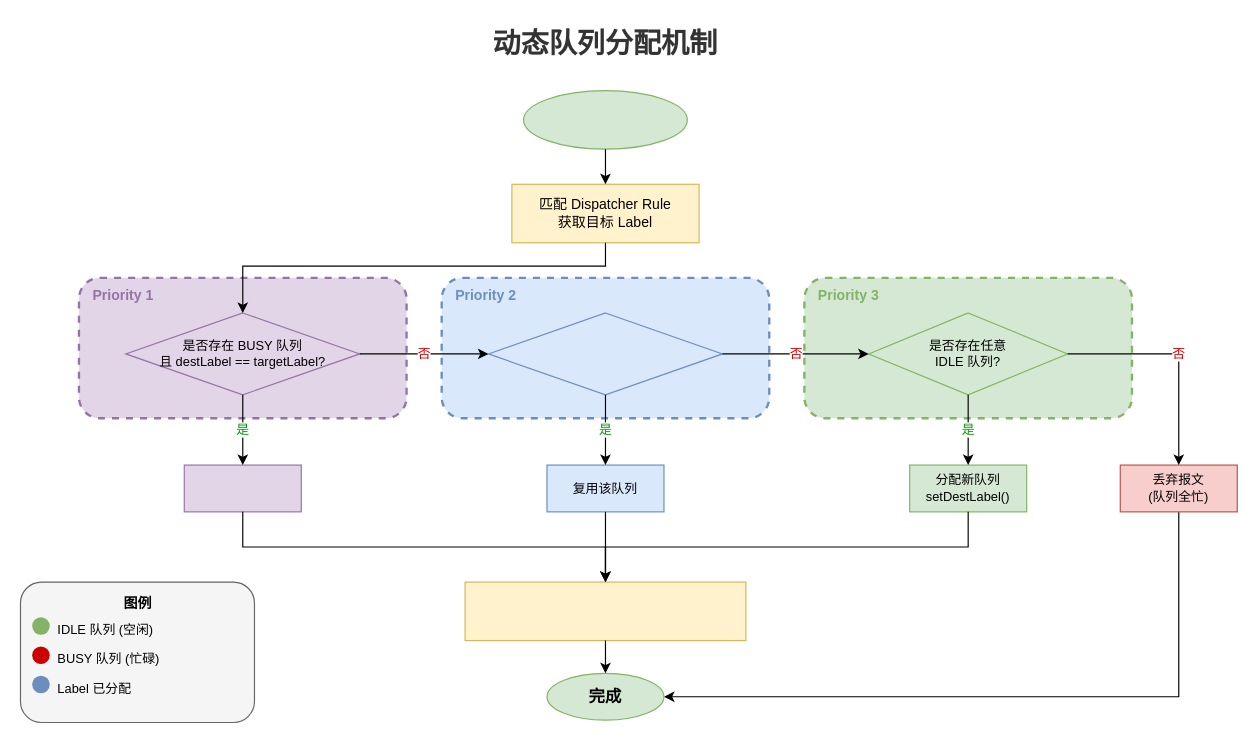
Some shapes in this 1258 by 743 pixel diagram are drawn without their labels. Here are the shapes that lost their labels. From the top down, the centre of each, then its label:
(x=604, y=119): 收到 IP 报文
(x=604, y=353): 是否存在 IDLE 队列 且 destLabel == targetLabel?
(x=242, y=488): 使用该队列
(x=605, y=611): 发送报文到选定队列 send(msg, "out", selectedQueue)
